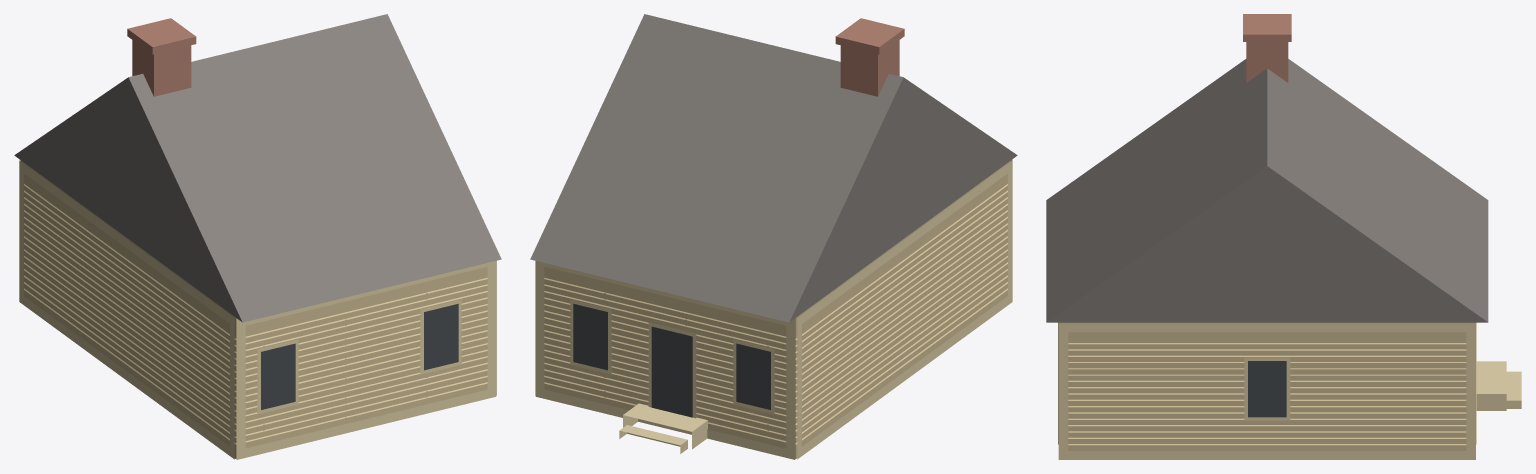
Rendered from recon_1835_blk_south_water_franklin_d4_02__inferred_1835.glb.
3 renders of one model, left to right at view 1: azimuth 30°, elevation 25°; view 2: azimuth 150°, elevation 25°; view 3: azimuth 270°, elevation 25°, orthographic. The views are drawn at different scales.
Parts seen in each view (by area): view 1: recon_1835_blk_south_water_franklin_d4_02__inferred_1835; view 2: recon_1835_blk_south_water_franklin_d4_02__inferred_1835; view 3: recon_1835_blk_south_water_franklin_d4_02__inferred_1835.
Part boxes in pixels (<box>): recon_1835_blk_south_water_franklin_d4_02__inferred_1835: <box>14,14,501,459</box>; recon_1835_blk_south_water_franklin_d4_02__inferred_1835: <box>530,14,1017,459</box>; recon_1835_blk_south_water_franklin_d4_02__inferred_1835: <box>1046,14,1521,459</box>.
Size of the model in its own units: 5.89 by 7.28 by 9.55.
